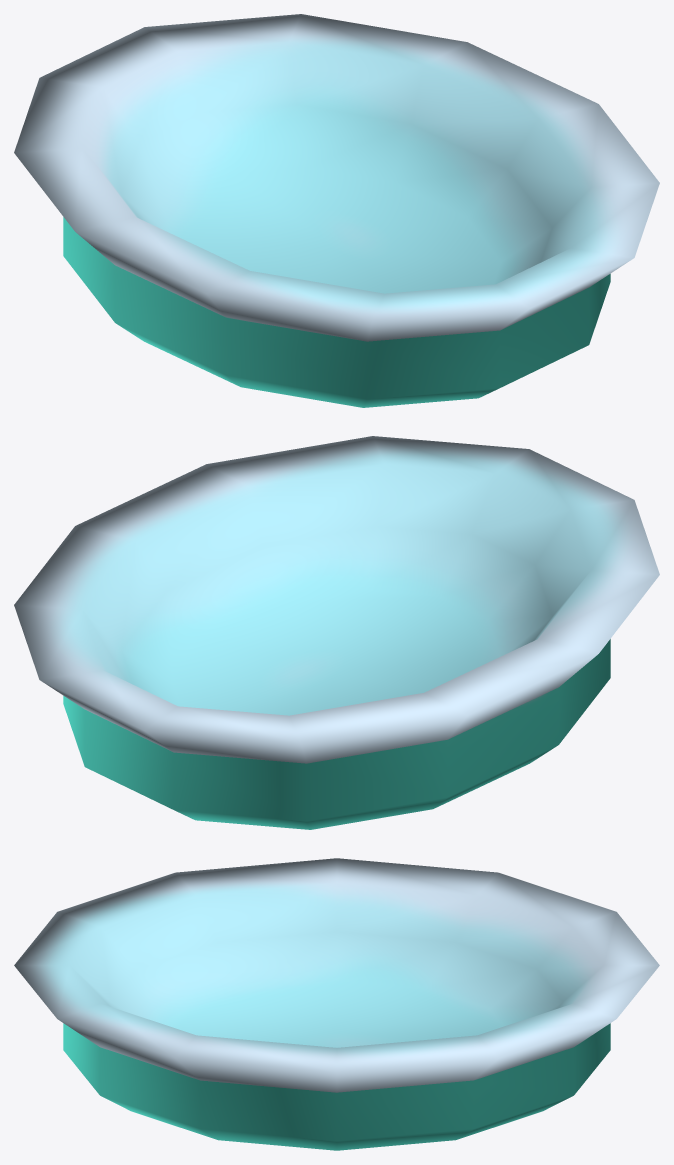
File: CatBed_MOD.fbx
3 views of the same model, one above another, from view 1: azimuth 30°, elevation 25°; view 2: azimuth 150°, elevation 25°; view 3: azimuth 270°, elevation 25° (orthographic). The views are drawn at different scales.
Visible parts, largest first — view 1: Cube; view 2: Cube; view 3: Cube.
Part boxes in pixels (left/top/right/bottom): Cube: left=14, top=14, right=659, bottom=407; Cube: left=14, top=436, right=659, bottom=829; Cube: left=14, top=858, right=659, bottom=1150.
Size of the model in its own units: 55 by 12.72 by 70.
